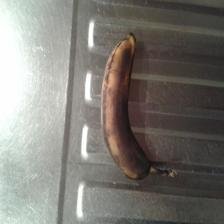Banana Rotten: (92, 19, 169, 179)
